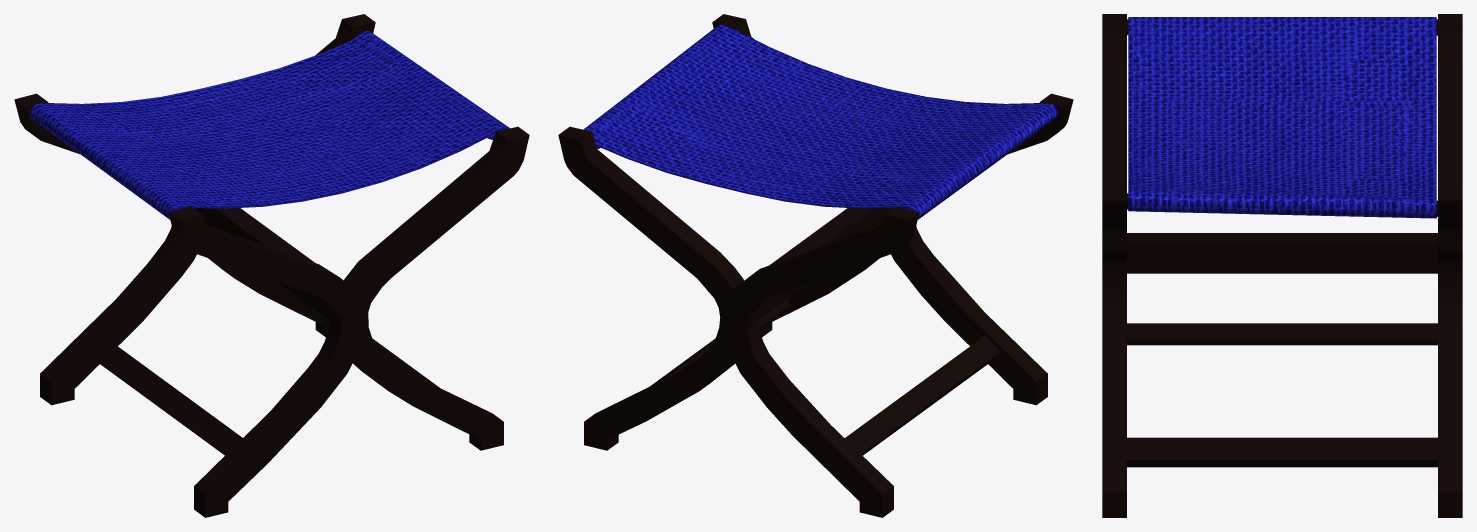
Rendered from blueChair.obj.
3 renders of one model, left to right at view 1: azimuth 30°, elevation 25°; view 2: azimuth 150°, elevation 25°; view 3: azimuth 270°, elevation 25°, orthographic. The views are drawn at different scales.
Visible parts, largest first — view 1: blue_chair; view 2: blue_chair; view 3: blue_chair.
Boxes of the visible parts, left/top/right/bottom form: blue_chair: left=14, top=14, right=529, bottom=517; blue_chair: left=558, top=14, right=1073, bottom=517; blue_chair: left=1102, top=14, right=1462, bottom=517.
Size of the model in its own units: 53.13 by 44.3 by 43.45.
Materials: 2 (1 with a texture image).
